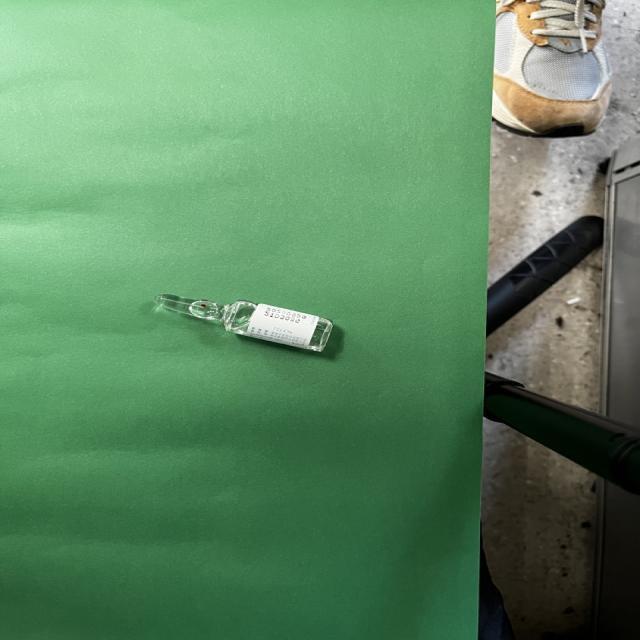Ampoules: (157, 294, 333, 352)
